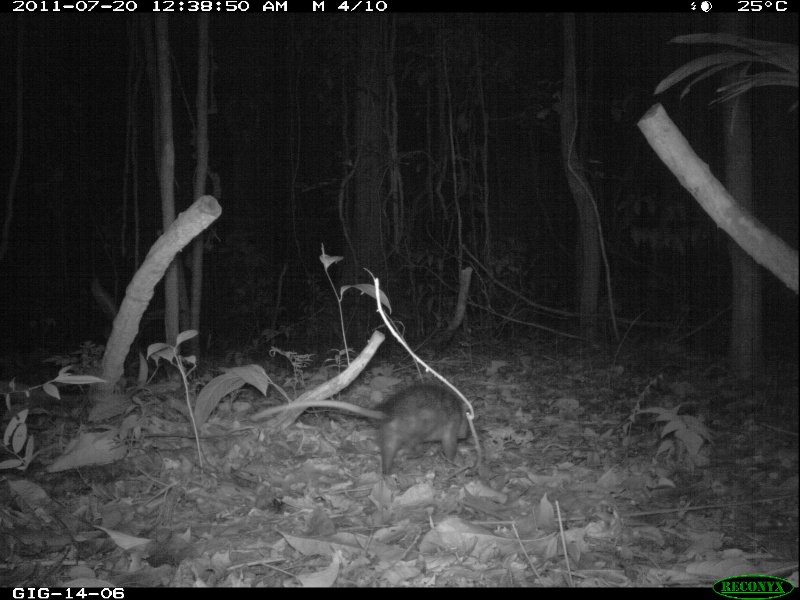opossum: (250, 373, 472, 480)
